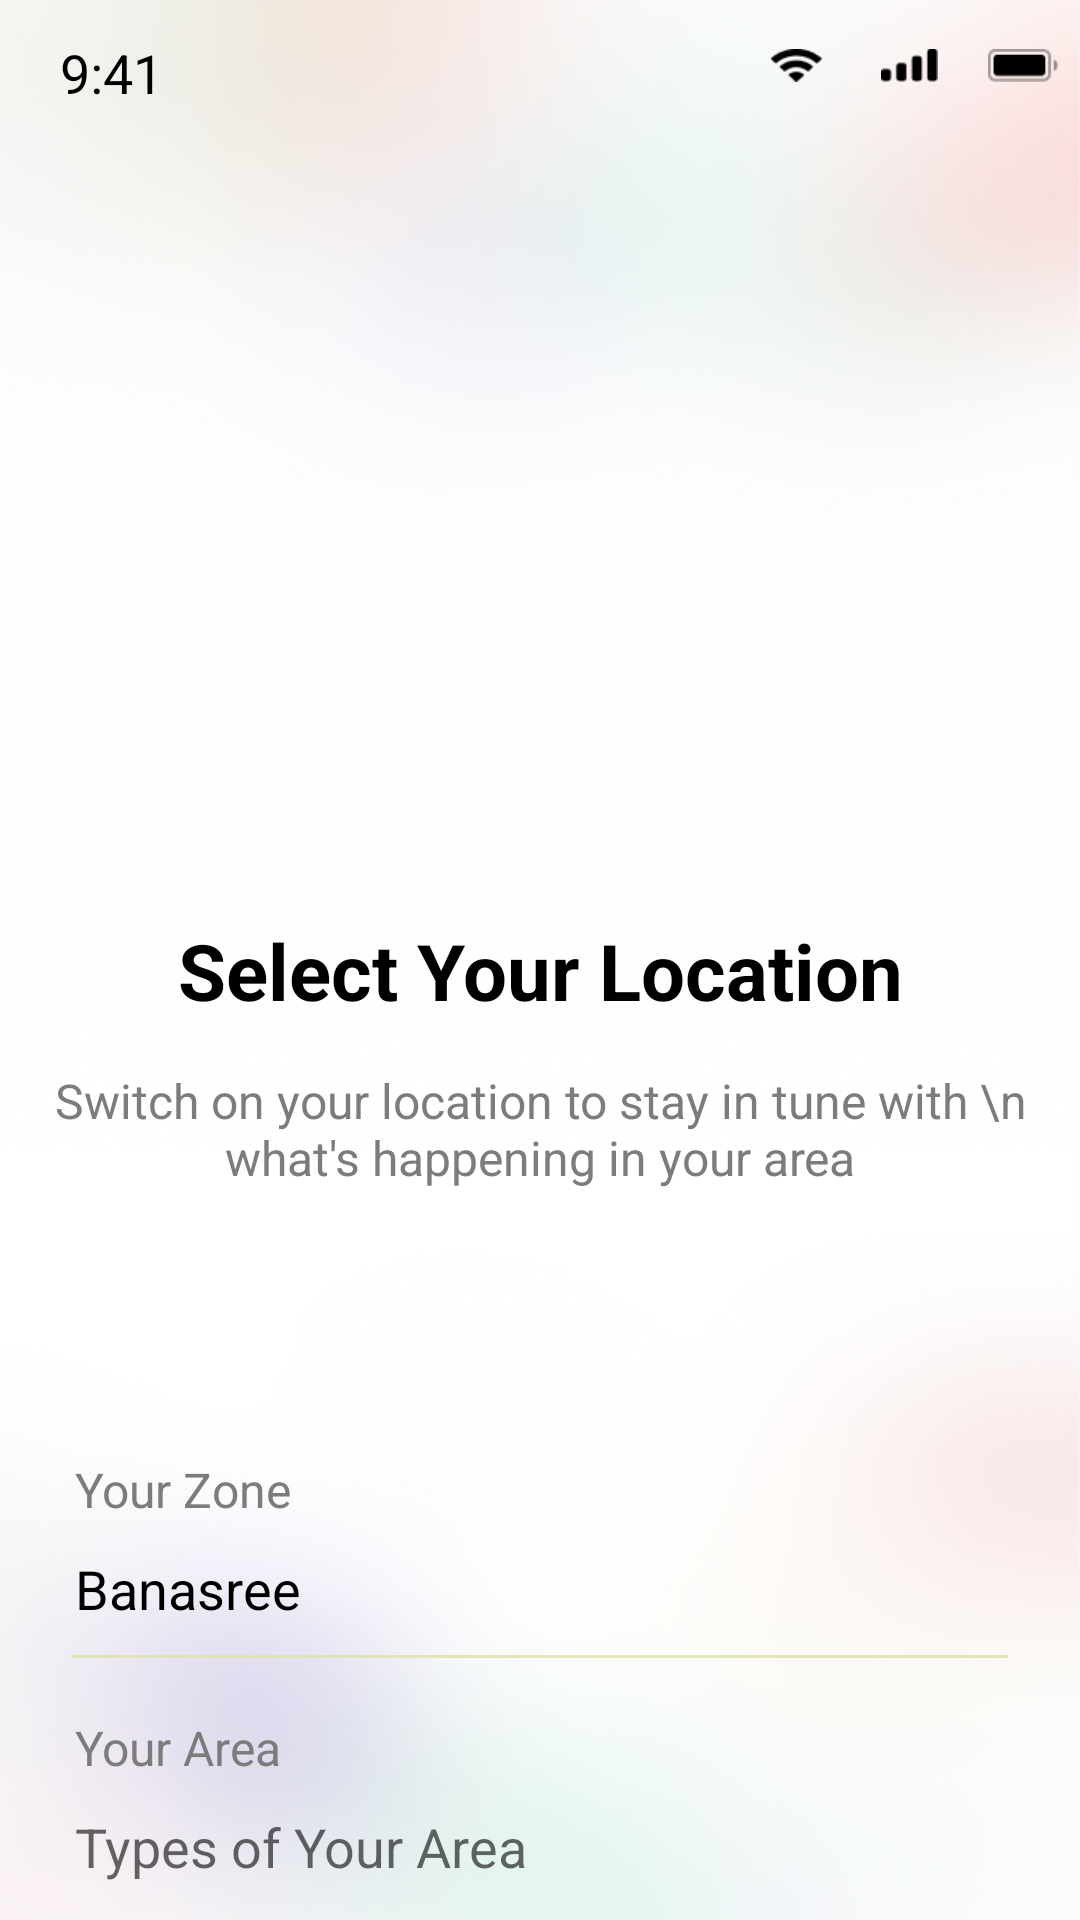

Where to tap for icons on this 1080w x 1920h app screen, as (x=x, y=y):
battery: (x=1023, y=65)
network: (x=909, y=65)
wifi: (x=796, y=65)
